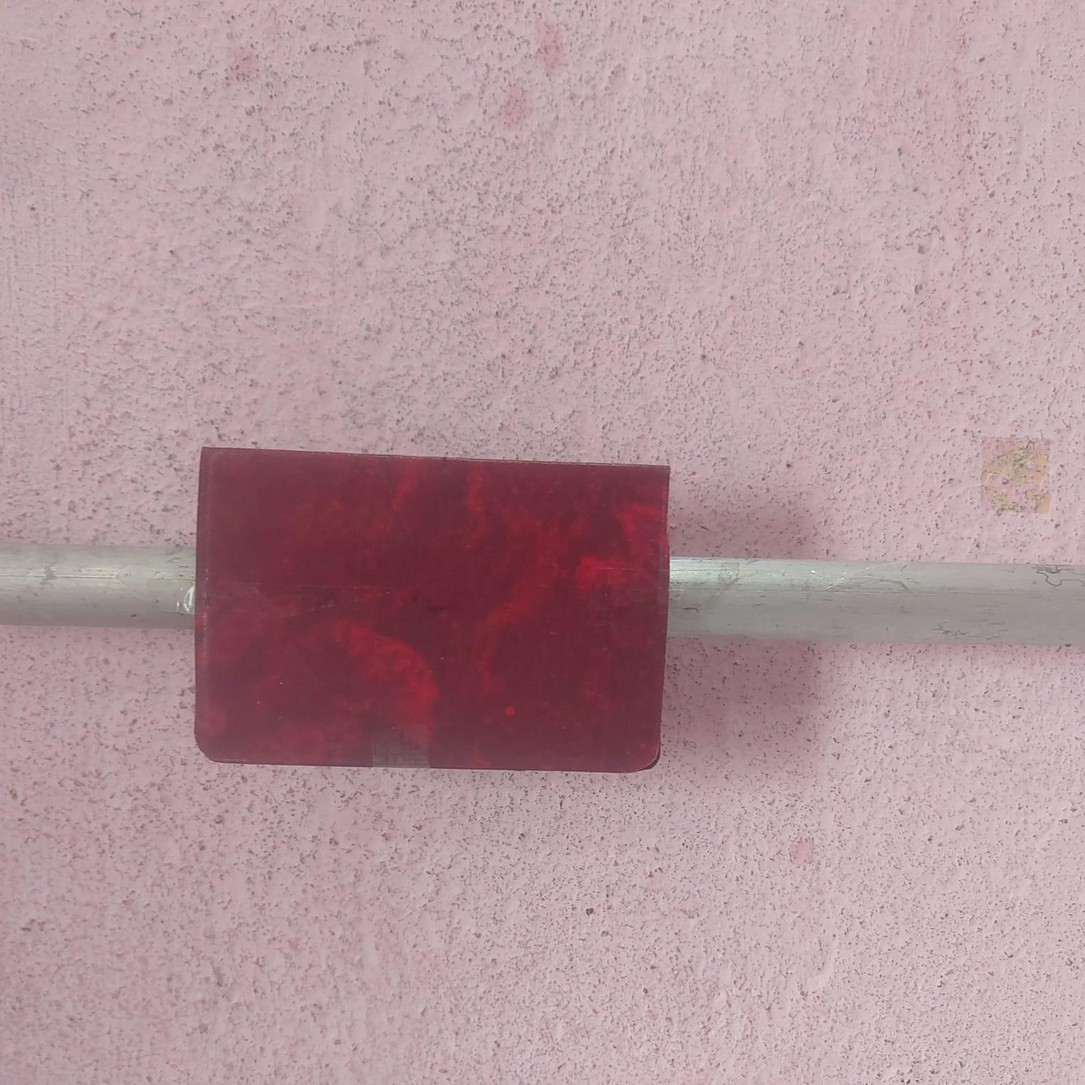wallet: (190, 441, 672, 770)
